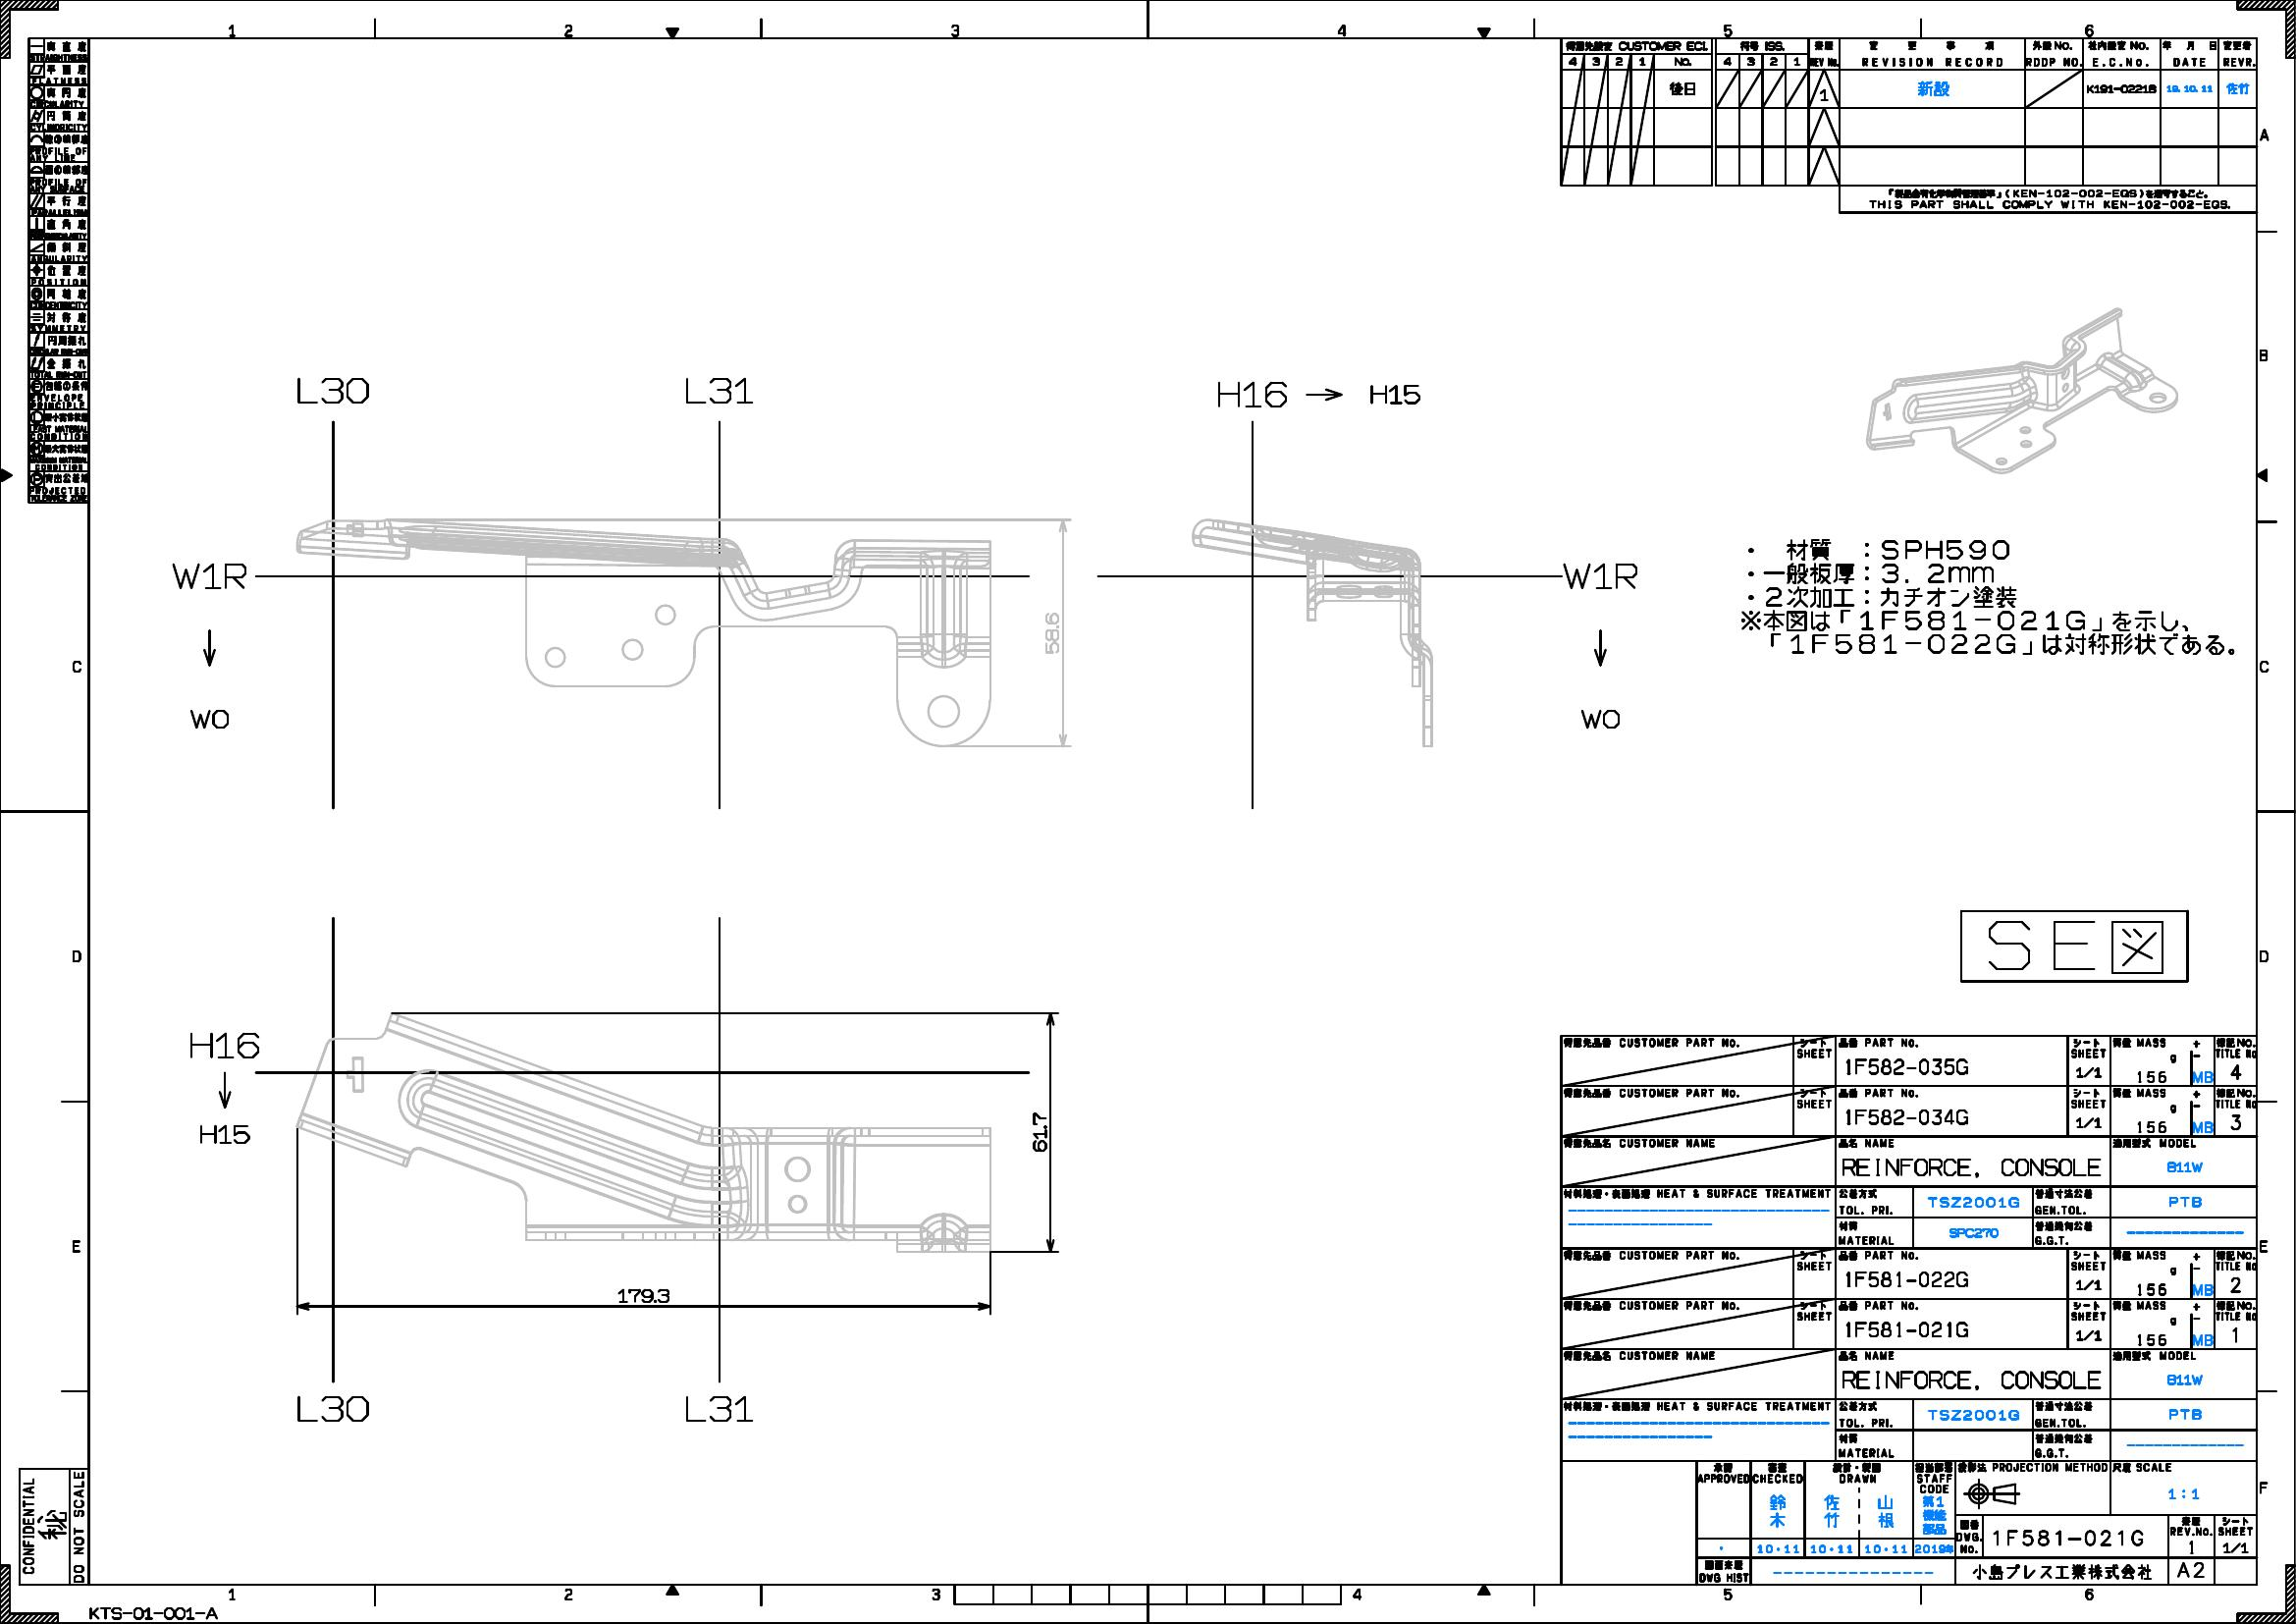anntotation_text: (1739, 533, 2245, 664), (1959, 909, 2189, 982), (1839, 185, 2257, 213), (18, 1468, 90, 1585), (170, 557, 248, 591), (293, 373, 371, 406), (680, 1392, 757, 1425), (293, 1394, 371, 1427), (186, 1026, 264, 1060), (678, 373, 754, 406), (1214, 376, 1289, 410), (1563, 561, 1643, 591), (88, 1605, 220, 1620), (1365, 380, 1421, 408), (197, 1121, 251, 1148), (188, 703, 235, 733), (1576, 708, 1623, 731)
dimension_text: (615, 1285, 671, 1304), (1028, 1109, 1047, 1153), (1043, 610, 1059, 656)
object: (299, 1011, 991, 1253), (297, 518, 991, 747), (1193, 517, 1432, 747), (1866, 306, 2180, 473)
title_block: (1560, 1037, 2257, 1585), (1558, 32, 2261, 183), (21, 32, 69, 383)
